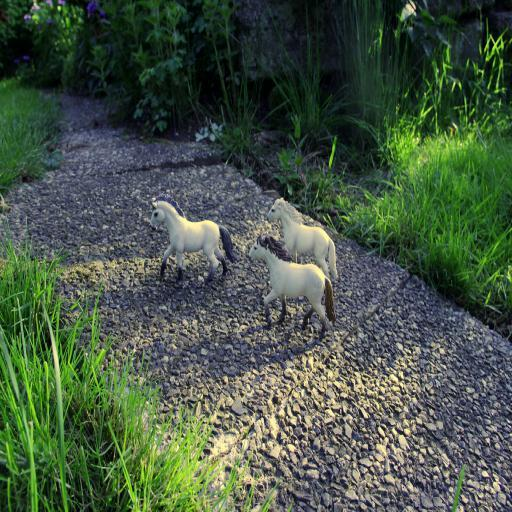horse: (248, 232, 338, 338), (149, 188, 236, 288), (266, 196, 338, 278)
